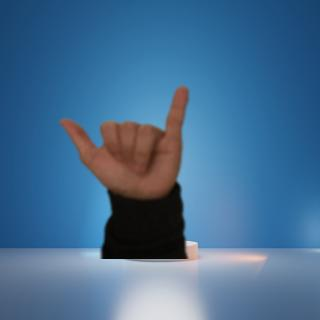HAVE: (57, 77, 195, 206)
